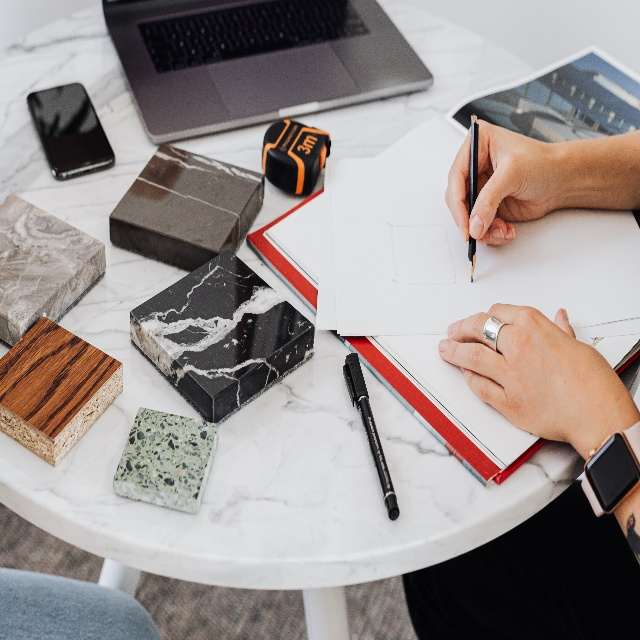Sin_guantes: (436, 303, 628, 458), (443, 113, 560, 248)
